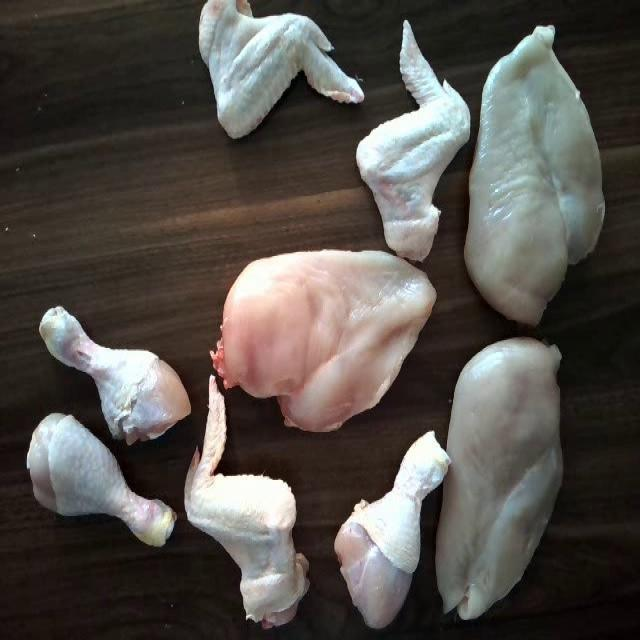breast: (198, 246, 430, 428), (474, 16, 606, 322), (443, 341, 581, 624)
leg: (0, 412, 176, 552), (332, 428, 450, 624), (38, 297, 196, 443)
wing: (185, 368, 314, 632), (358, 20, 469, 254), (193, 2, 360, 138)
